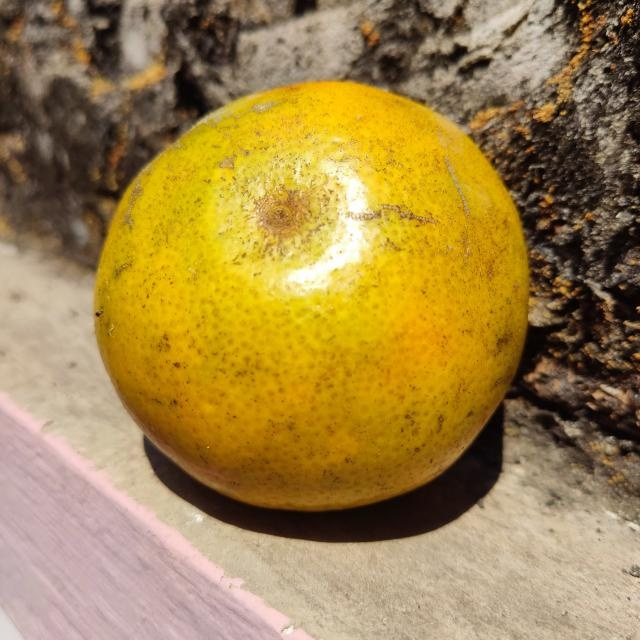agrume: (93, 79, 529, 506)
